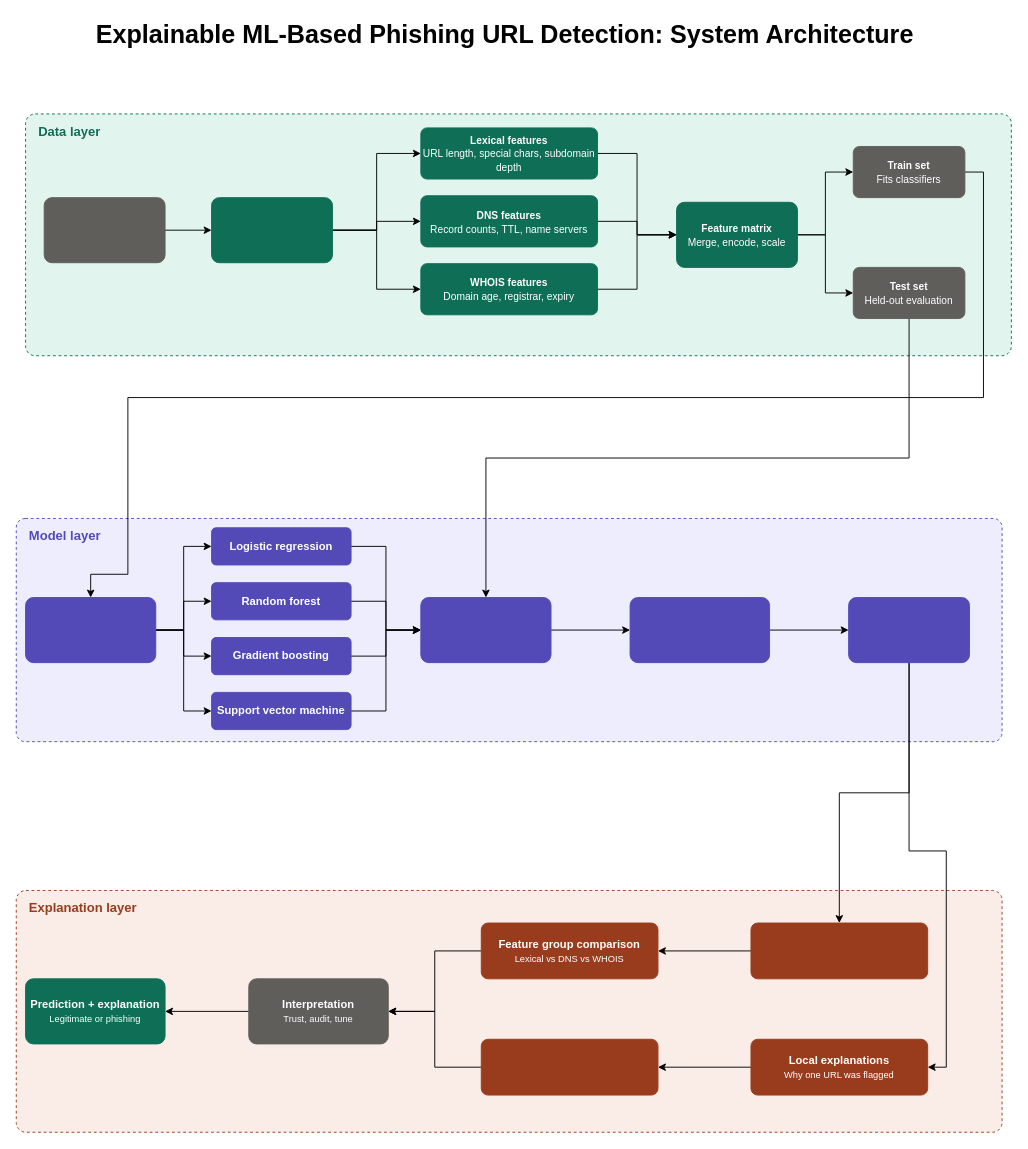
The diagram is 1028 pixels wide and 1149 high, and some of its shapes have lost their labels. Here are the shapes that lost their labels. From the top down, the centre of each, then its label:
point 104,230: Phishing URL dataset Kaggle, 579,920 records
point 271,230: Data cleaning Nulls, duplicates, label check
point 90,630: Cross-validation and tuning Same folds for all models
point 485,630: Test-set evaluation Held-out data only
point 699,630: Metrics Accuracy, precision, recall, F1, confusion matrix
point 909,630: Selected model Best by test metrics
point 839,950: Global explanations Overall feature importance
point 569,1066: Per-URL contributions SHAP and LIME
